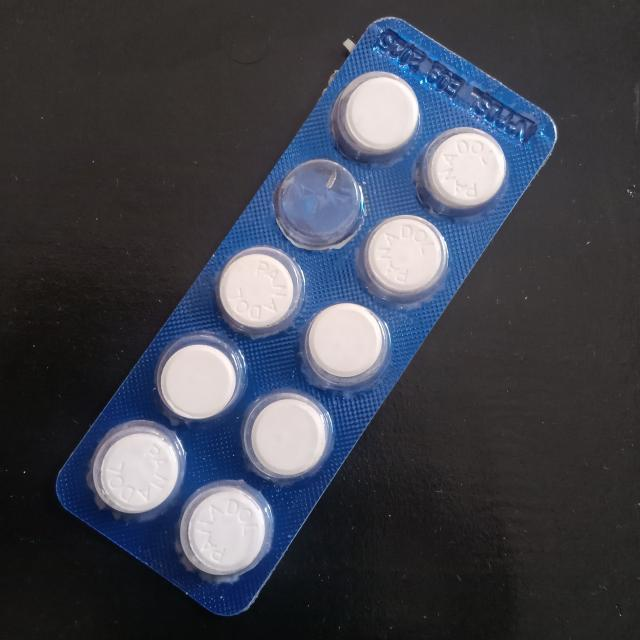defect: (275, 160, 367, 254)
